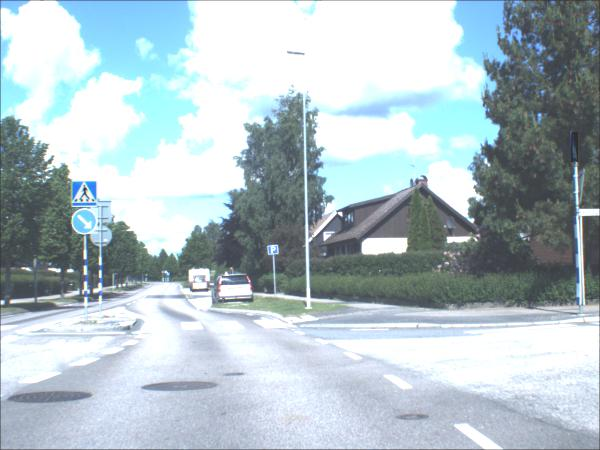PASS_RIGHT_SIDE: (73, 209, 100, 236), (168, 274, 172, 278)
PEDESTRIAN_CROSSING: (72, 182, 100, 208), (572, 133, 580, 164), (166, 272, 169, 275)
